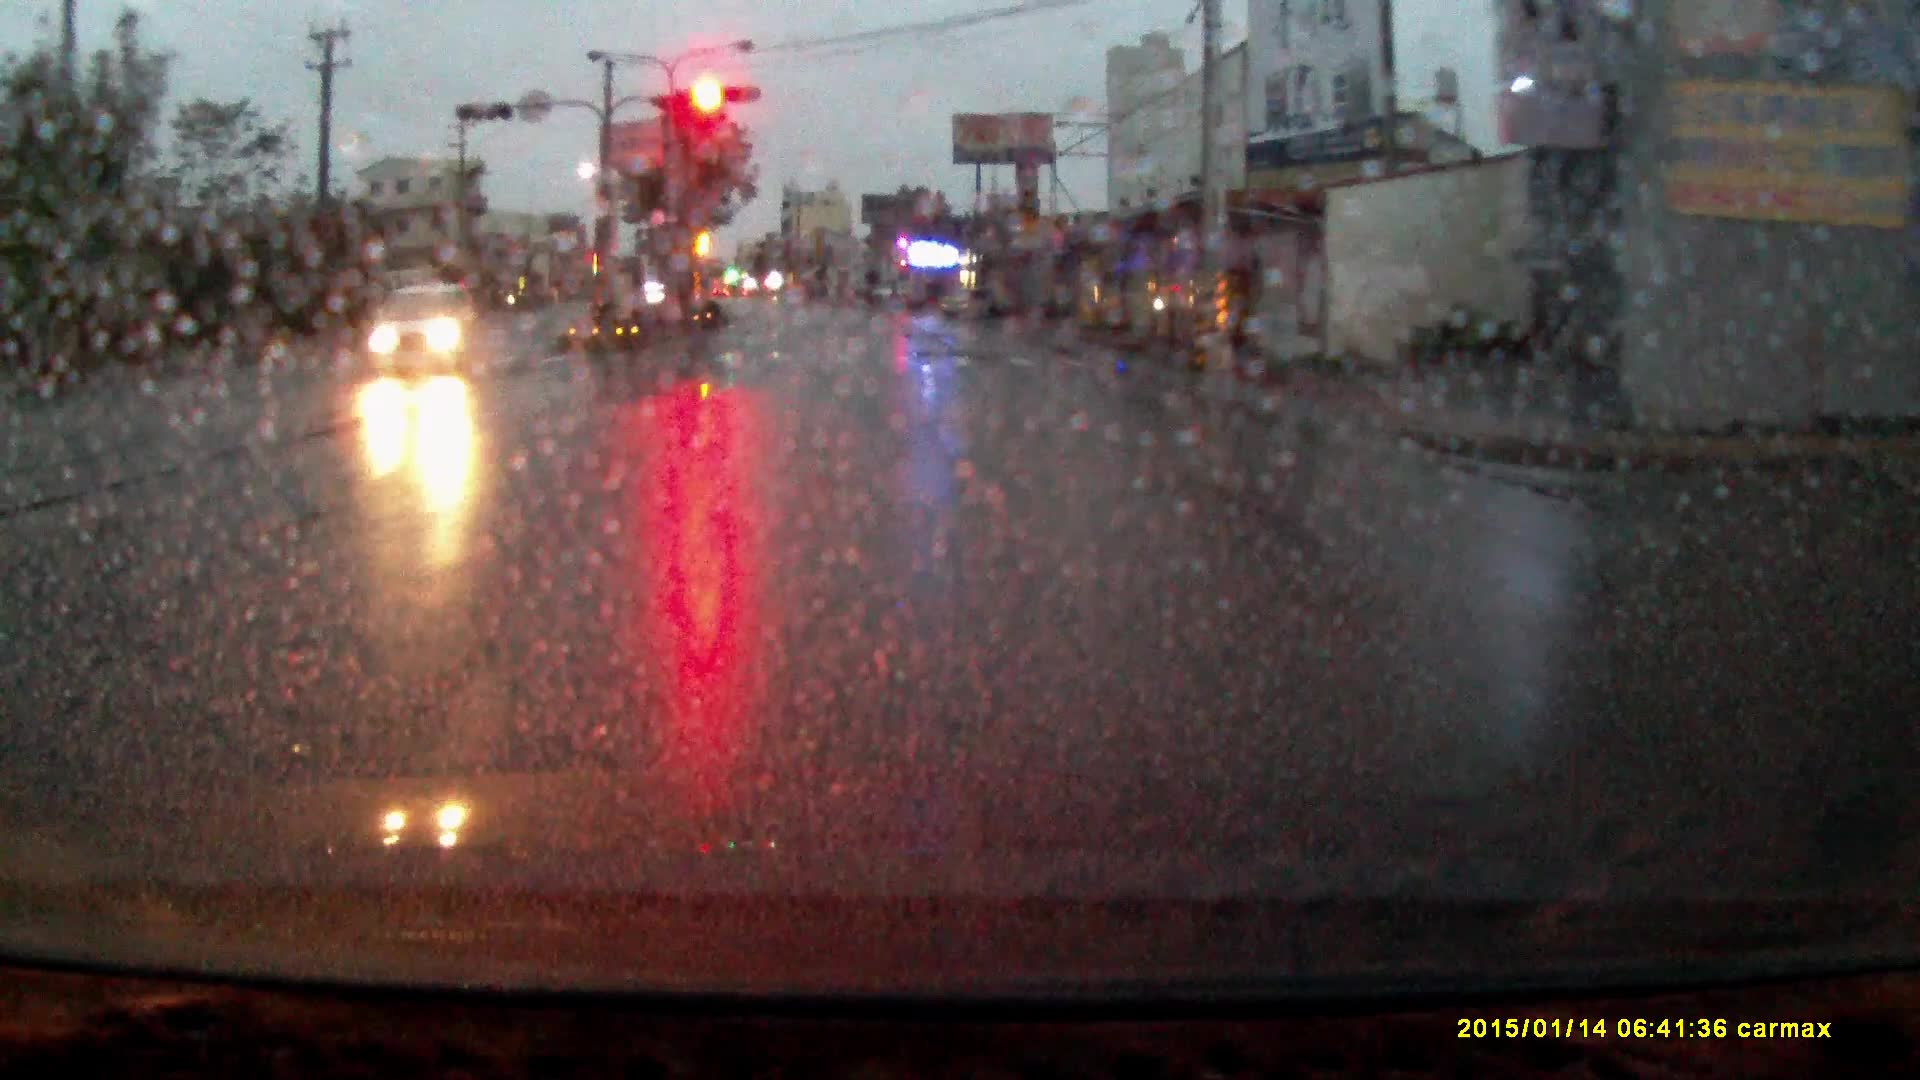vehicle: (372, 286, 480, 377)
